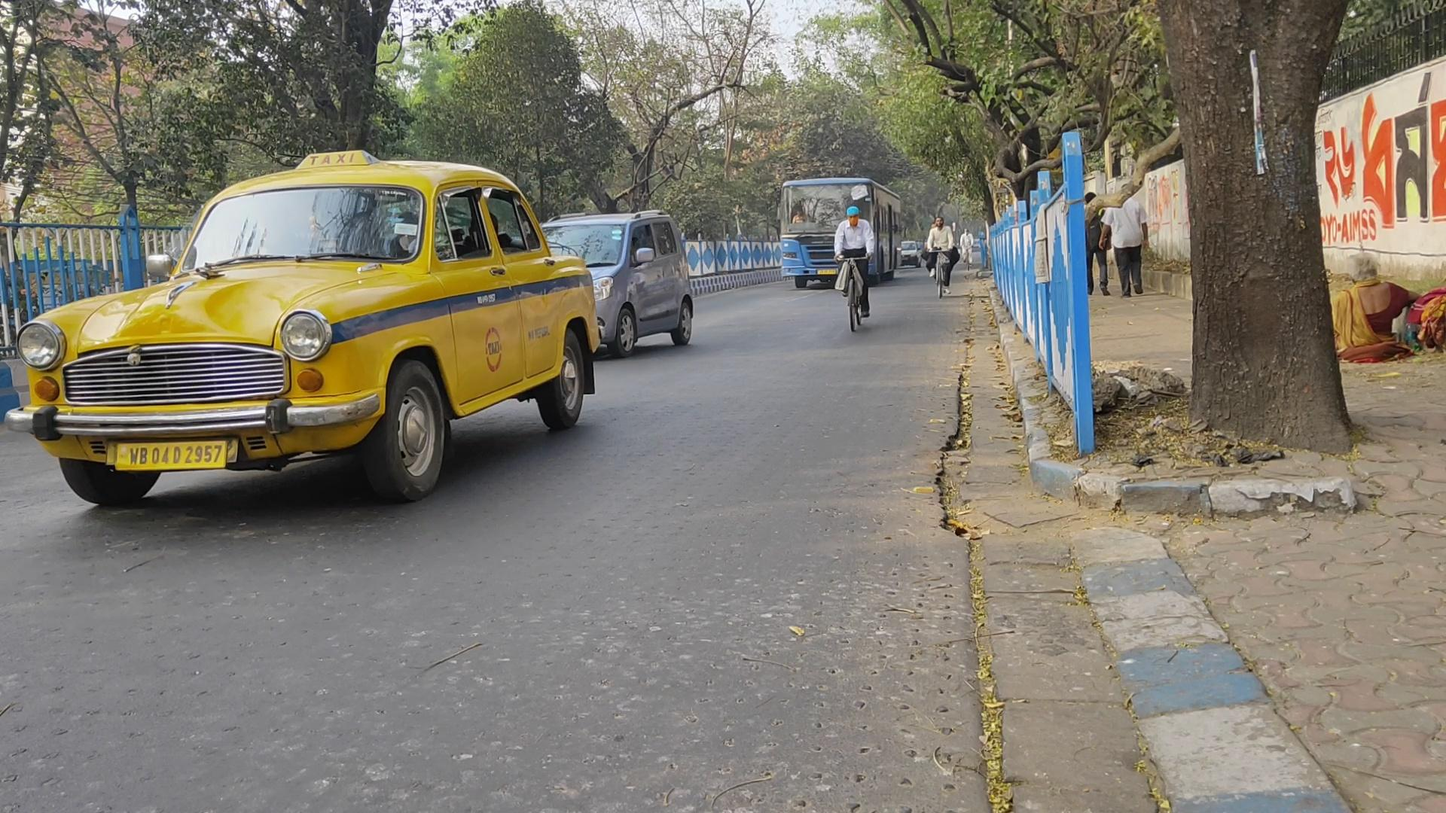Bus: (778, 177, 901, 288)
bike: (836, 206, 874, 333), (926, 216, 959, 300), (959, 227, 975, 273)
car: (17, 151, 599, 507), (543, 206, 694, 357), (899, 239, 923, 269)
